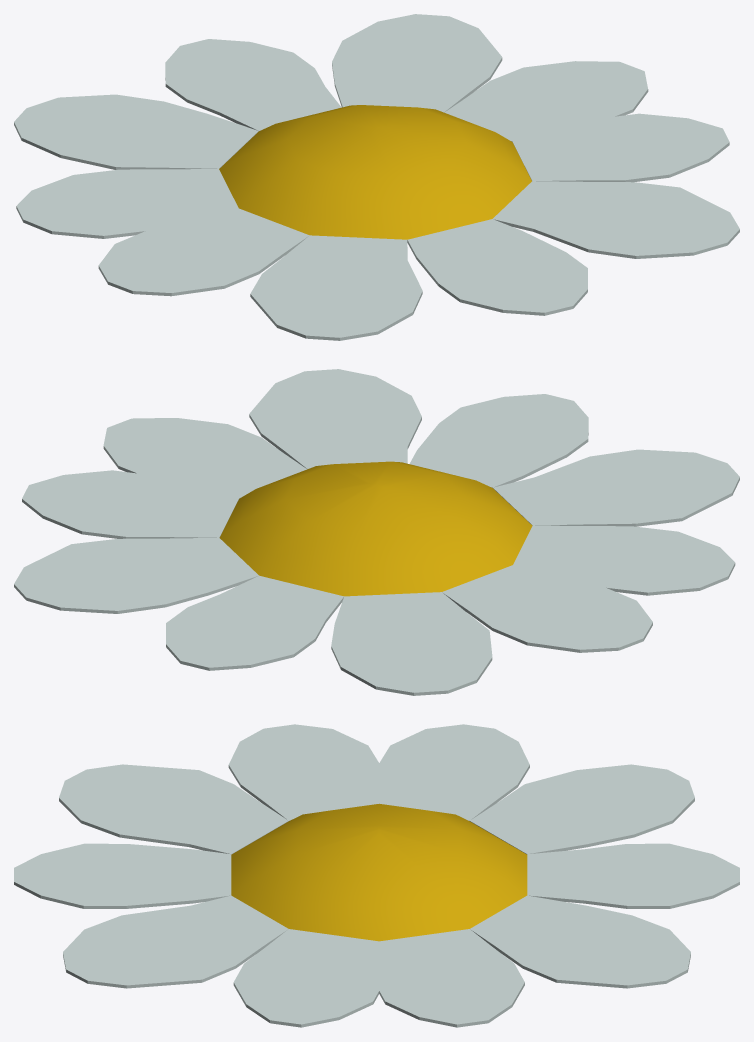
File: flower1_short.FBX
The picture shows the model from 3 angles, top to bottom: view 1: azimuth 30°, elevation 25°; view 2: azimuth 150°, elevation 25°; view 3: azimuth 270°, elevation 25°; orthographic projection.
Visible parts, largest first — view 1: flowerWhite; view 2: flowerWhite; view 3: flowerWhite.
Part boxes in pixels (<box>): flowerWhite: <box>14,14,739,340</box>; flowerWhite: <box>14,369,739,695</box>; flowerWhite: <box>14,724,739,1027</box>.
Bounding box in the file's own units: 22.83 × 1.76 × 23.33.
